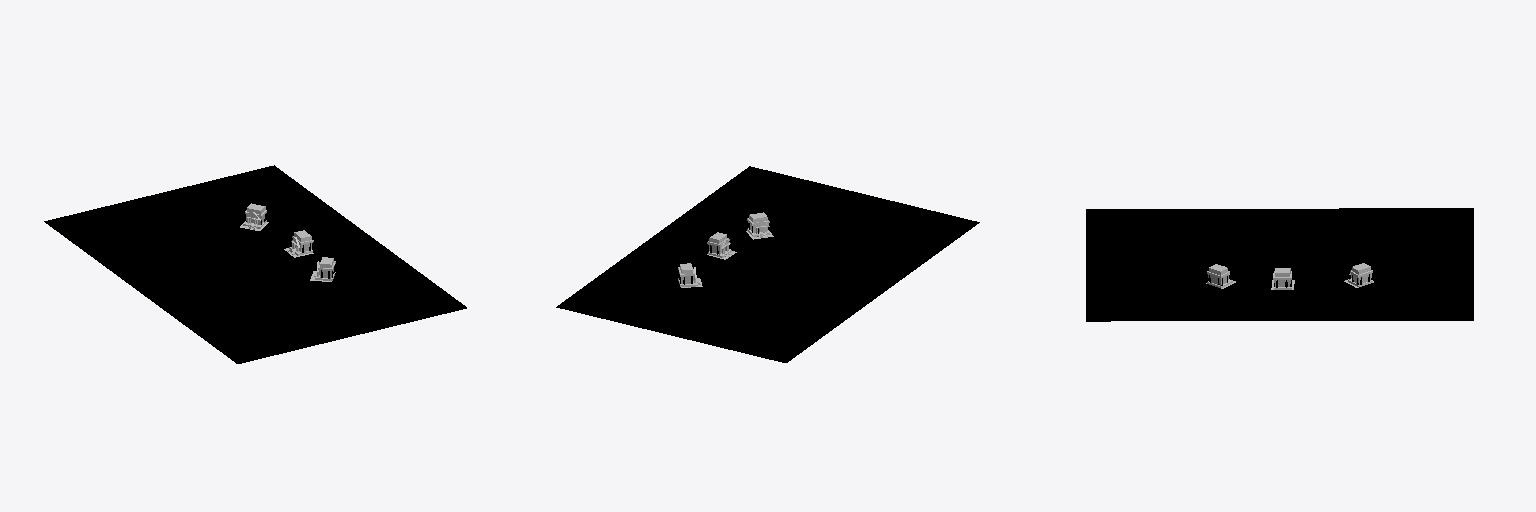
Rendered from Bank.obj.
3 views of the same model, side by side, from view 1: azimuth 30°, elevation 25°; view 2: azimuth 150°, elevation 25°; view 3: azimuth 270°, elevation 25° (orthographic).
Parts seen in each view (by area): view 1: Cylinder.010_Cylinder.011; view 2: Cylinder.010_Cylinder.011; view 3: Cylinder.010_Cylinder.011.
Boxes of the visible parts, x1=… form: Cylinder.010_Cylinder.011: x1=44, y1=165, x2=466, y2=363; Cylinder.010_Cylinder.011: x1=556, y1=166, x2=979, y2=362; Cylinder.010_Cylinder.011: x1=1086, y1=208, x2=1473, y2=321.
Size of the model in its own units: 47.22 by 3.64 by 68.84.